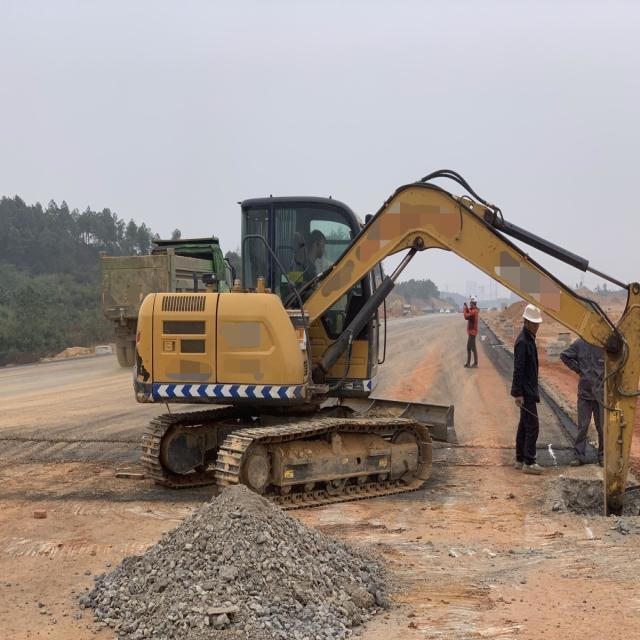excavator: (133, 167, 640, 517)
person: (562, 307, 618, 470), (506, 296, 547, 477), (456, 285, 484, 376), (521, 302, 544, 331), (467, 291, 480, 307)
truck: (99, 235, 236, 367)
